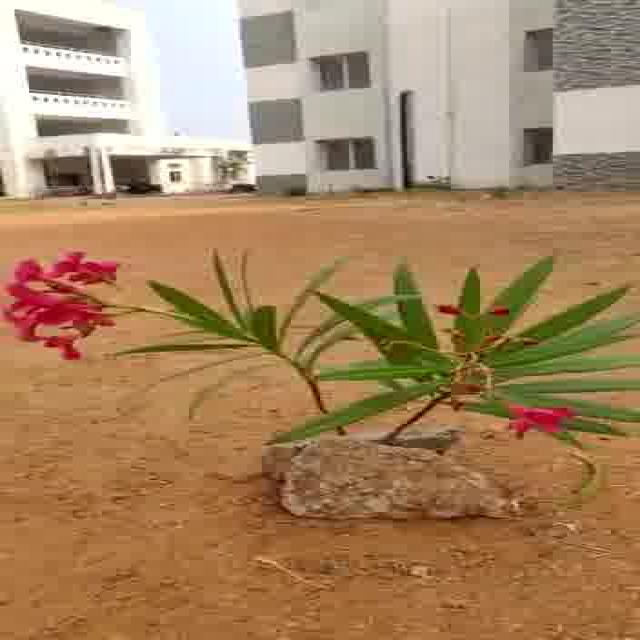Oleander: (7, 221, 640, 451)
